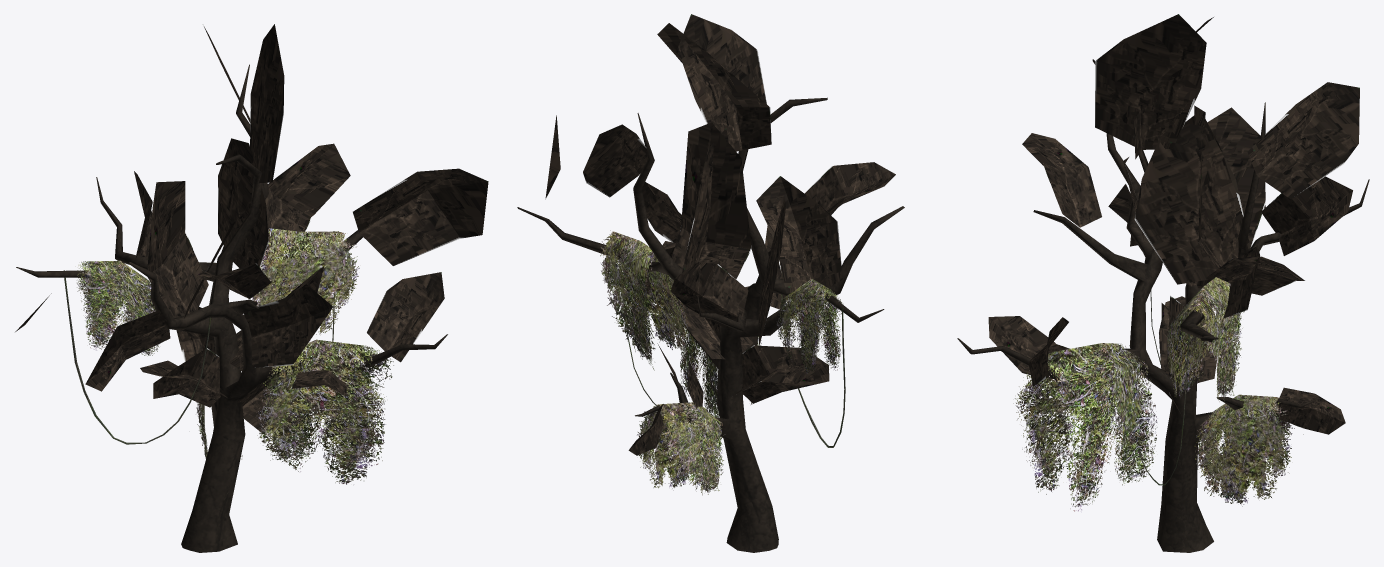
File: Tree 2 v2 - LOD 1.fbx
The picture shows the model from 3 angles, left to right: view 1: azimuth 30°, elevation 25°; view 2: azimuth 150°, elevation 25°; view 3: azimuth 270°, elevation 25°; orthographic projection. The views are drawn at different scales.
Visible parts, largest first — view 1: Branches 2 v2 - LOD 1, Hanging Moss 2 v2 - LOD 1, Bark 2 v2 - LOD 1, Vines 2 v2 - LOD 1; view 2: Branches 2 v2 - LOD 1, Hanging Moss 2 v2 - LOD 1, Bark 2 v2 - LOD 1, Vines 2 v2 - LOD 1; view 3: Branches 2 v2 - LOD 1, Hanging Moss 2 v2 - LOD 1, Bark 2 v2 - LOD 1.
Boxes of the visible parts, left/top/right/bottom form: Branches 2 v2 - LOD 1: left=15, top=24, right=488, bottom=433; Hanging Moss 2 v2 - LOD 1: left=77, top=228, right=393, bottom=484; Bark 2 v2 - LOD 1: left=16, top=64, right=447, bottom=552; Vines 2 v2 - LOD 1: left=63, top=270, right=334, bottom=444; Branches 2 v2 - LOD 1: left=545, top=14, right=895, bottom=455; Hanging Moss 2 v2 - LOD 1: left=600, top=230, right=842, bottom=495; Bark 2 v2 - LOD 1: left=517, top=97, right=904, bottom=552; Vines 2 v2 - LOD 1: left=623, top=264, right=845, bottom=447; Branches 2 v2 - LOD 1: left=988, top=14, right=1359, bottom=434; Hanging Moss 2 v2 - LOD 1: left=1013, top=277, right=1303, bottom=511; Bark 2 v2 - LOD 1: left=957, top=59, right=1369, bottom=552.
Bounding box in the file's own units: 22.33 × 26.97 × 17.95.
